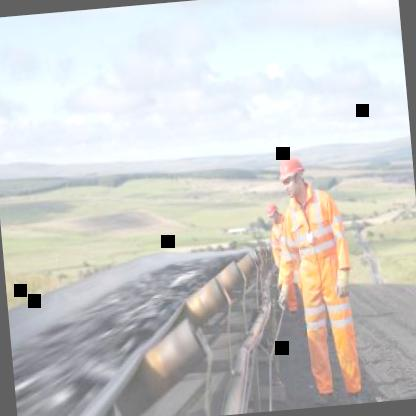helmet: (275, 150, 312, 200), (265, 202, 281, 224)
